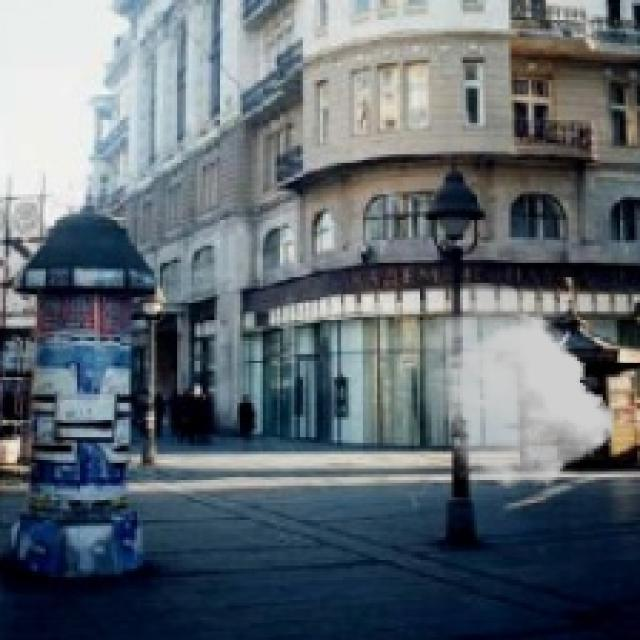Smoke: (414, 283, 614, 488)
